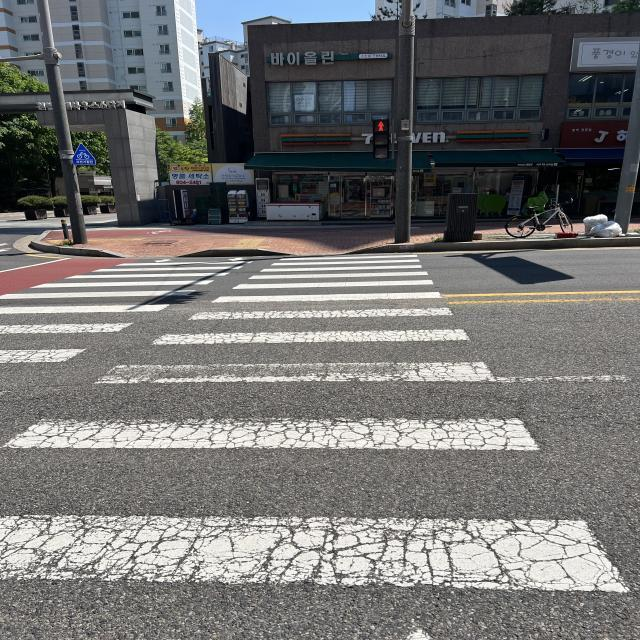crosswalk: (2, 232, 640, 640)
red-light: (367, 118, 399, 166)
